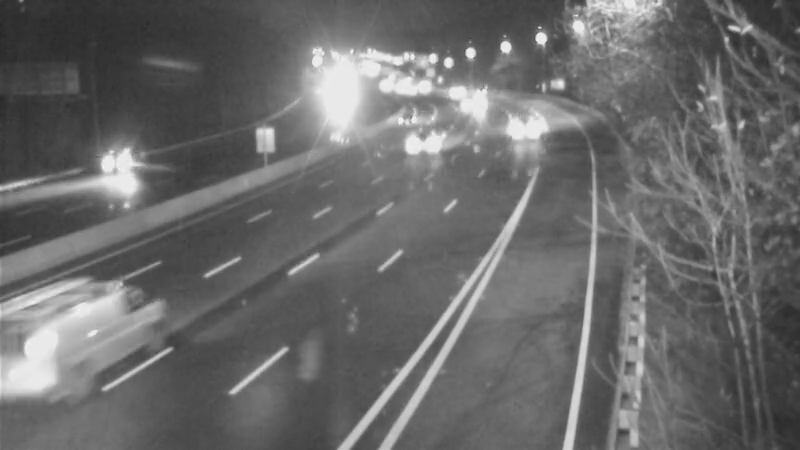vehicle: (1, 307, 102, 417), (84, 122, 164, 202), (432, 71, 482, 121), (443, 82, 493, 132), (375, 95, 425, 145), (493, 103, 543, 153), (401, 115, 451, 165)
